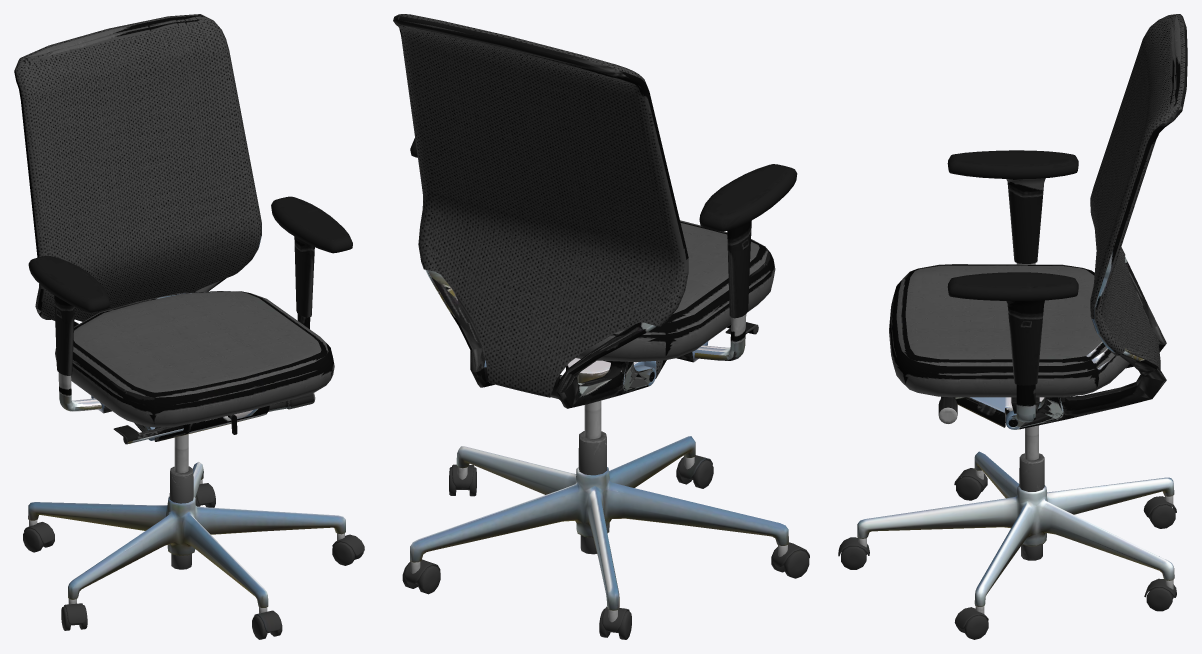
3 views of the same model, side by side, from view 1: azimuth 30°, elevation 25°; view 2: azimuth 150°, elevation 25°; view 3: azimuth 270°, elevation 25° (orthographic). The views are drawn at different scales.
Visible parts, largest first — view 1: Chair_Chair_0; view 2: Chair_Chair_0; view 3: Chair_Chair_0.
Boxes of the visible parts, x1,y1,x2,y2 form: Chair_Chair_0: [14, 14, 364, 639]; Chair_Chair_0: [393, 14, 809, 639]; Chair_Chair_0: [838, 14, 1187, 639].
Size of the model in its own units: 0.5995 by 0.9401 by 0.5821.
Materials: 1 (1 with a texture image).
